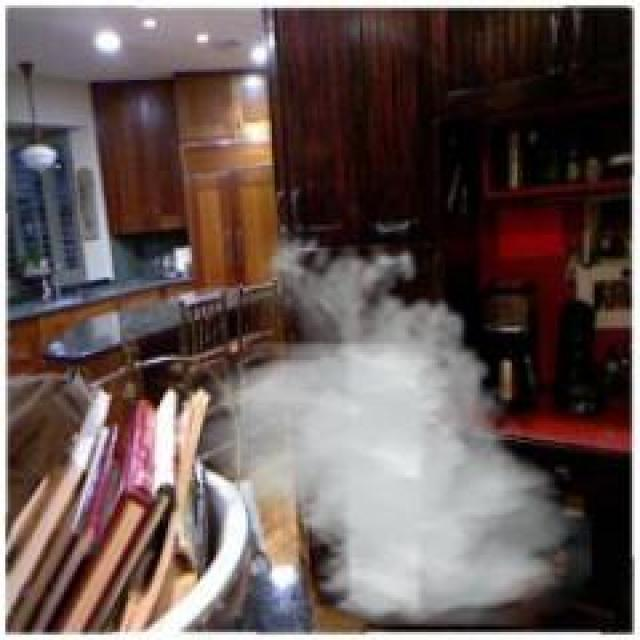Smoke: (197, 232, 595, 624)
